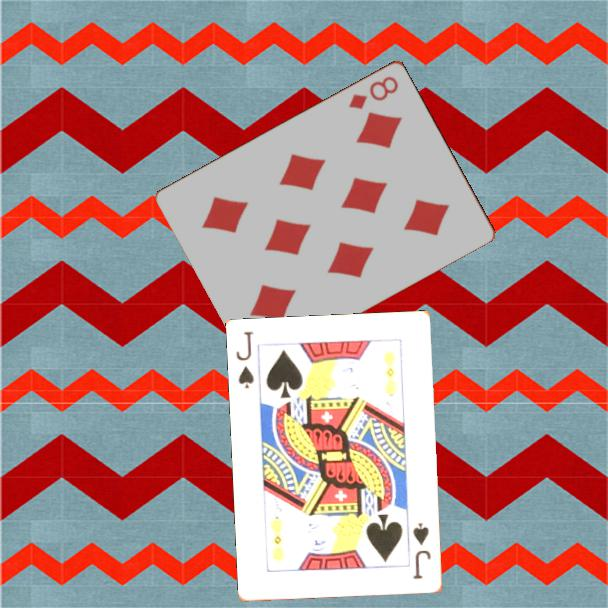d08: (345, 72, 401, 112)
s11: (233, 328, 257, 391), (410, 520, 434, 582)
